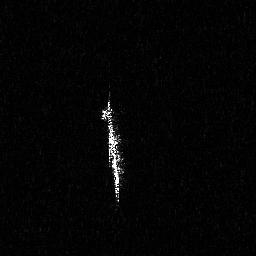ship: (100, 82, 128, 211)
